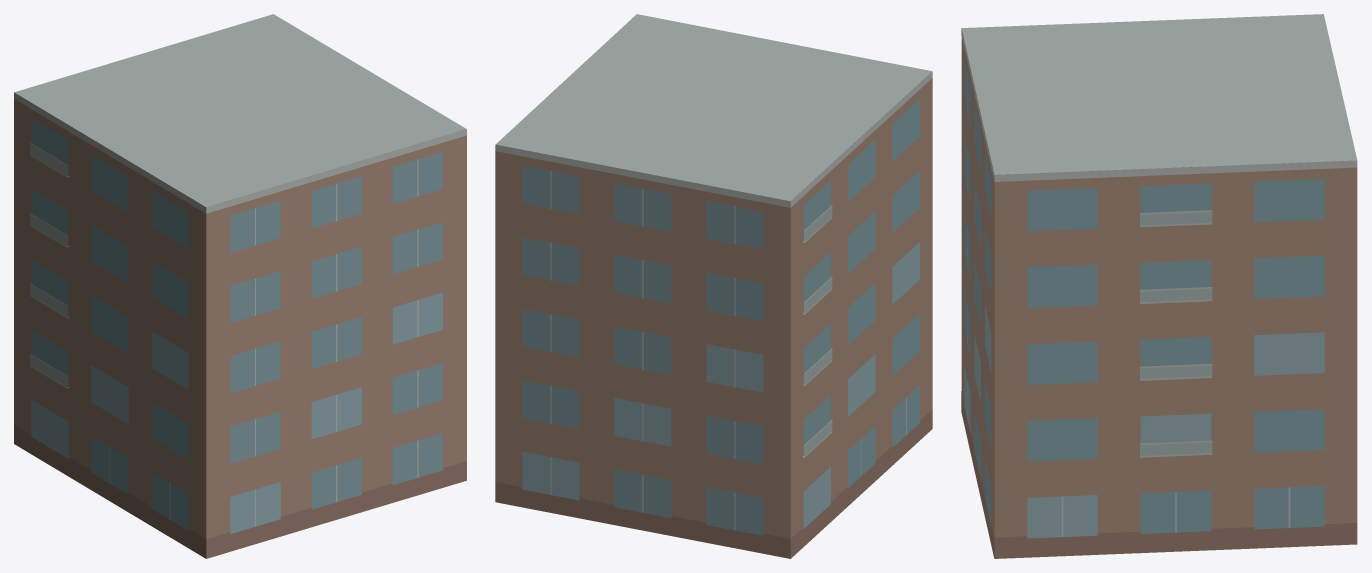
File: survey-upis-32665704.glb
The picture shows the model from 3 angles, left to right: view 1: azimuth 30°, elevation 25°; view 2: azimuth 150°, elevation 25°; view 3: azimuth 270°, elevation 25°; orthographic projection. The views are drawn at different scales.
Visible parts, largest first — view 1: survey-upis-32665704.tmp; view 2: survey-upis-32665704.tmp; view 3: survey-upis-32665704.tmp.
Part boxes in pixels (x1,y1,x2,y2): survey-upis-32665704.tmp: (14,14,466,558); survey-upis-32665704.tmp: (495,14,932,558); survey-upis-32665704.tmp: (961,14,1357,558).
Bounding box in the file's own units: 11.87 × 13.2 × 12.35.
